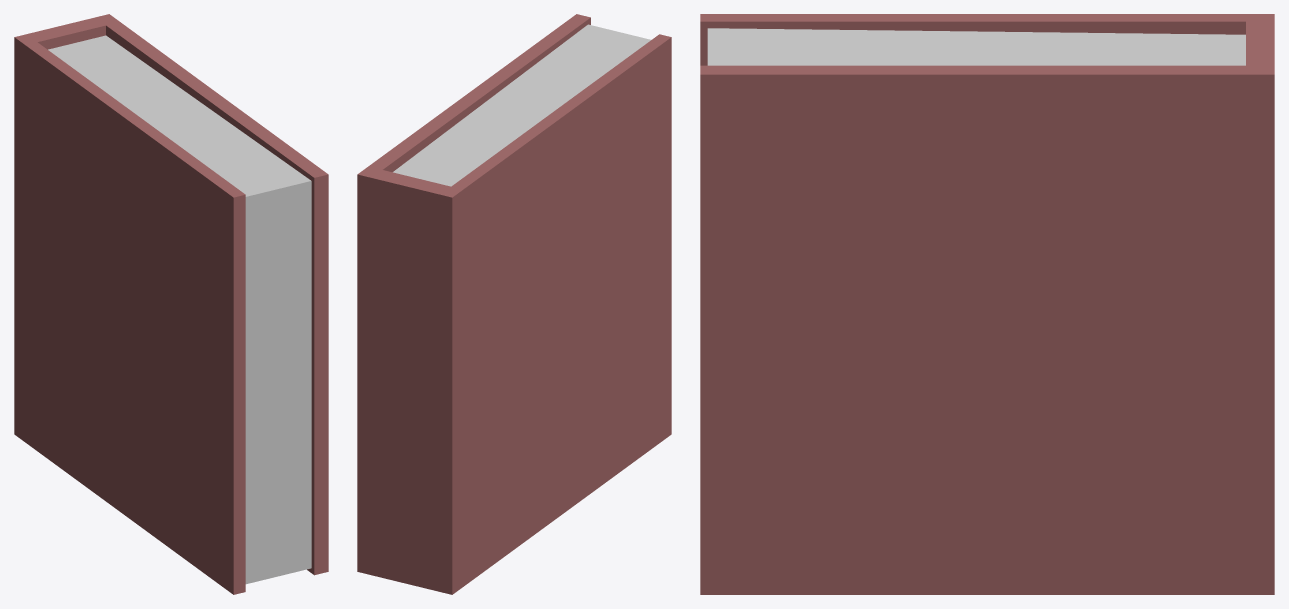
The model's file is Book.fbx.
3 views of the same model, side by side, from view 1: azimuth 30°, elevation 25°; view 2: azimuth 150°, elevation 25°; view 3: azimuth 270°, elevation 25° (orthographic). The views are drawn at different scales.
Parts seen in each view (by area): view 1: pCube1; view 2: pCube1; view 3: pCube1.
Part boxes in pixels (left/top/right/bottom): pCube1: left=14, top=14, right=328, bottom=594; pCube1: left=357, top=14, right=671, bottom=594; pCube1: left=700, top=14, right=1274, bottom=594.
Size of the model in its own units: 0.25 by 1 by 1.
